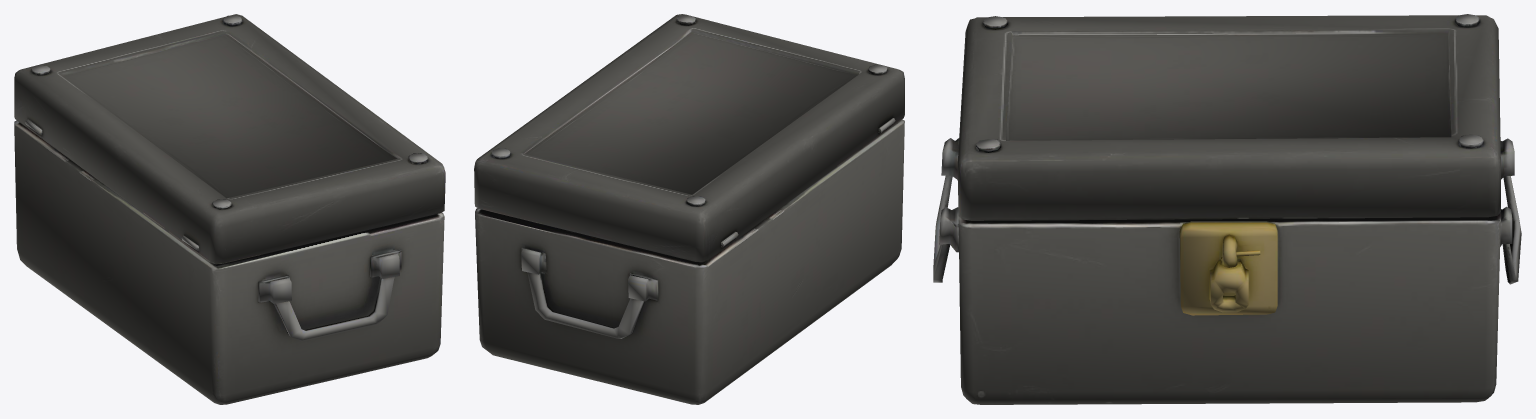
Rendered from cash-box.glb.
3 views of the same model, side by side, from view 1: azimuth 30°, elevation 25°; view 2: azimuth 150°, elevation 25°; view 3: azimuth 270°, elevation 25° (orthographic). The views are drawn at different scales.
Parts seen in each view (by area): view 1: tripo_node_f2ed8a5d-4c46-48fc-bbf5-cb0c38ca301a; view 2: tripo_node_f2ed8a5d-4c46-48fc-bbf5-cb0c38ca301a; view 3: tripo_node_f2ed8a5d-4c46-48fc-bbf5-cb0c38ca301a.
Boxes of the visible parts, x1,y1,x2,y2 form: tripo_node_f2ed8a5d-4c46-48fc-bbf5-cb0c38ca301a: (14,14,445,404); tripo_node_f2ed8a5d-4c46-48fc-bbf5-cb0c38ca301a: (474,14,904,404); tripo_node_f2ed8a5d-4c46-48fc-bbf5-cb0c38ca301a: (933,14,1521,404).
Size of the model in its own units: 0.6699 by 0.4902 by 0.998.
Materials: 1 (1 with a texture image).
